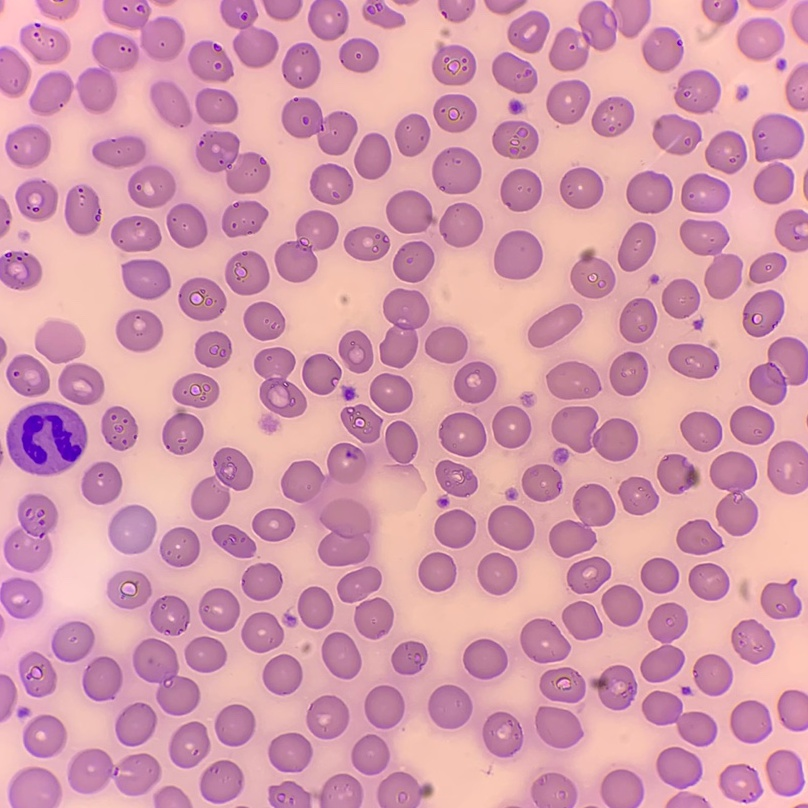RBC: (282, 443, 379, 565), (549, 0, 650, 70), (6, 401, 87, 476), (133, 639, 199, 714), (103, 0, 184, 60), (77, 33, 138, 112), (680, 220, 741, 298), (549, 484, 614, 556), (552, 406, 637, 460), (196, 131, 269, 193), (275, 210, 337, 281), (191, 448, 252, 519), (68, 749, 160, 795), (282, 97, 356, 154), (4, 493, 57, 571), (642, 691, 716, 746), (710, 452, 757, 535), (749, 337, 807, 404), (221, 0, 277, 67), (380, 289, 428, 367), (254, 348, 305, 416), (753, 114, 803, 161), (494, 231, 542, 278), (109, 505, 156, 553), (528, 304, 581, 346), (432, 147, 480, 193), (474, 712, 522, 757), (8, 767, 61, 807), (520, 619, 569, 662), (386, 190, 436, 232), (571, 249, 614, 297), (768, 441, 807, 493), (128, 164, 175, 207), (547, 361, 600, 399), (488, 505, 533, 549), (439, 413, 485, 456), (590, 666, 636, 709), (35, 321, 83, 362), (675, 70, 720, 113), (179, 278, 225, 320), (535, 706, 581, 748), (377, 772, 432, 807), (653, 114, 701, 154), (122, 259, 170, 299), (428, 685, 472, 728), (116, 310, 162, 351), (439, 203, 482, 246), (225, 251, 268, 294), (200, 760, 243, 803), (30, 71, 72, 115), (6, 125, 50, 167), (738, 18, 783, 59), (627, 171, 672, 212), (58, 363, 103, 404), (656, 747, 701, 788), (151, 81, 191, 127), (743, 290, 783, 336), (163, 408, 203, 454), (21, 24, 68, 63), (681, 174, 729, 212), (547, 80, 589, 123), (731, 620, 774, 662), (23, 715, 66, 757), (642, 27, 682, 72), (169, 722, 209, 767), (93, 135, 147, 168), (307, 695, 348, 738), (492, 53, 536, 93), (167, 203, 207, 247), (463, 639, 507, 679), (82, 656, 122, 700), (322, 632, 360, 678), (618, 223, 655, 270), (705, 131, 746, 173), (16, 178, 57, 220), (7, 355, 49, 396), (730, 700, 771, 742), (115, 703, 156, 745), (189, 41, 232, 81), (432, 45, 475, 85), (199, 588, 239, 631), (364, 685, 404, 728), (65, 185, 100, 234), (111, 216, 160, 251), (310, 164, 352, 204), (560, 168, 602, 208), (501, 169, 541, 211), (0, 578, 42, 618), (52, 621, 94, 661), (282, 43, 320, 87), (669, 344, 718, 378), (508, 11, 548, 52), (393, 241, 434, 281), (454, 362, 495, 402), (657, 454, 699, 493), (82, 462, 121, 504), (730, 406, 773, 444), (269, 733, 312, 771), (493, 121, 537, 158), (19, 652, 56, 696), (767, 750, 803, 795), (602, 585, 642, 625), (592, 97, 633, 136), (242, 612, 283, 651), (434, 94, 476, 132), (370, 374, 412, 412), (601, 769, 643, 807), (610, 352, 647, 395), (108, 571, 151, 608), (620, 298, 656, 342), (355, 133, 390, 178), (308, 0, 347, 40), (754, 163, 793, 203), (681, 412, 721, 451), (215, 705, 254, 745), (0, 251, 41, 289), (478, 553, 516, 594), (694, 654, 732, 695), (101, 406, 137, 449), (567, 557, 610, 593), (222, 201, 266, 236), (540, 668, 585, 702), (531, 773, 576, 807), (354, 599, 393, 638), (648, 603, 687, 642), (263, 655, 302, 694), (351, 734, 389, 774), (493, 406, 530, 447), (720, 764, 761, 801), (641, 645, 683, 681), (677, 520, 721, 554), (173, 374, 218, 407), (160, 528, 199, 566), (151, 596, 189, 635), (244, 302, 284, 339), (303, 354, 340, 394), (522, 464, 562, 501), (435, 510, 475, 547), (0, 47, 30, 96), (425, 327, 467, 362), (345, 227, 389, 260), (318, 774, 362, 807), (662, 279, 699, 318), (342, 405, 381, 442), (689, 563, 728, 600), (562, 602, 601, 639), (185, 637, 226, 672), (395, 114, 429, 156), (338, 567, 380, 601), (619, 477, 657, 514), (242, 563, 281, 599), (436, 461, 476, 496), (761, 583, 801, 618), (196, 89, 237, 123), (298, 587, 332, 628), (339, 331, 372, 372), (213, 525, 255, 557), (419, 553, 455, 590), (775, 210, 807, 251), (385, 421, 417, 462), (253, 509, 294, 541), (339, 38, 377, 72), (195, 332, 231, 367), (641, 558, 678, 592), (778, 690, 807, 730), (392, 641, 426, 674), (269, 781, 311, 807), (363, 0, 403, 27), (750, 253, 785, 282), (786, 63, 807, 110), (702, 0, 737, 24), (264, 0, 302, 20), (438, 0, 474, 21), (154, 786, 190, 807), (0, 674, 16, 721), (38, 0, 77, 17), (667, 792, 708, 807), (792, 1, 807, 40), (485, 0, 524, 14), (0, 198, 10, 235), (553, 448, 568, 463), (509, 100, 525, 113), (751, 0, 779, 7), (342, 386, 355, 399), (262, 418, 276, 430), (521, 393, 532, 406), (525, 726, 534, 741), (284, 615, 295, 626), (17, 707, 29, 717), (737, 87, 747, 98), (506, 489, 516, 499), (0, 341, 6, 357), (439, 497, 448, 506), (777, 59, 785, 68), (803, 181, 807, 191), (160, 0, 169, 4)
